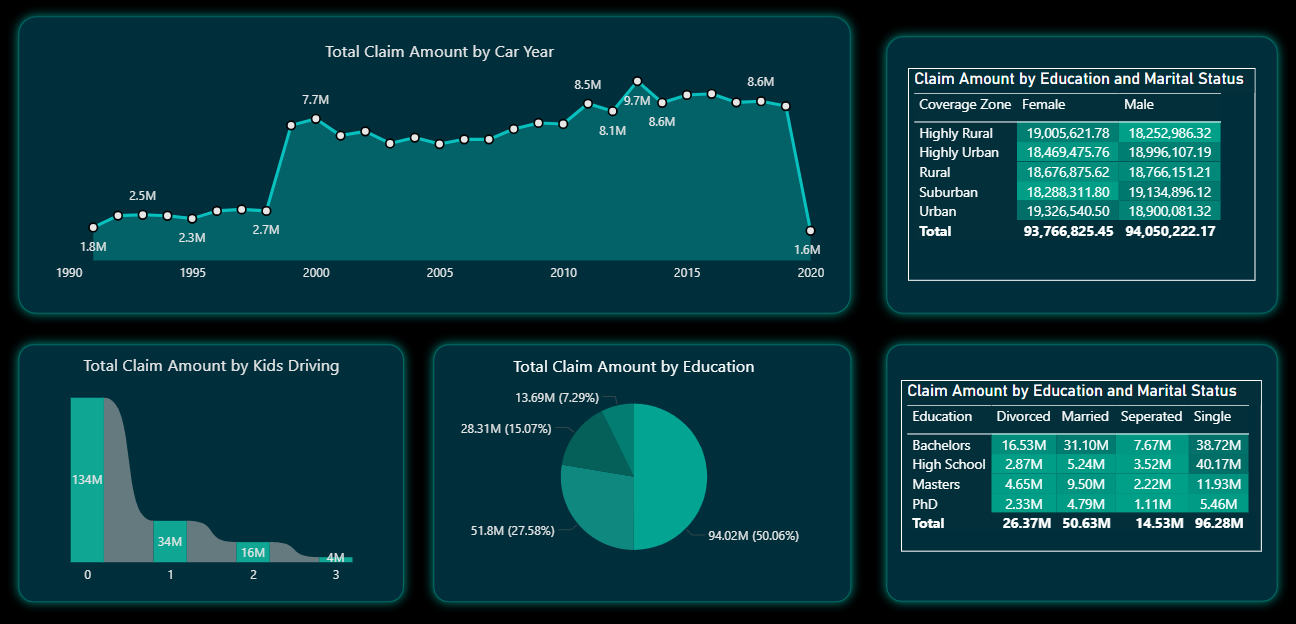

The page's visual inventory and layout, read from the dashboard file:
{"tool":"powerbi","page":{"name":"Dashboard 2","canvas":[1280,720],"ordinal":1},"visuals":[{"type":"shape","box":[27.6,103.5,829.7,309.4],"z":0},{"type":"textbox","box":[336.9,10.6,605.6,64.7],"z":1000},{"type":"shape","box":[27.6,421.7,395.1,271],"z":2000},{"type":"shape","box":[430.6,421.7,426.7,271],"z":3000},{"type":"pieChart","fields":{"Y":["Car_Insurance_Data.Total Claim Amount"],"Category":["Car_Insurance_Data.Education"]},"box":[447.4,442.4,377.4,215.8],"z":4000},{"type":"shape","box":[871.5,422.1,400.7,270.4],"z":5000},{"type":"pivotTable","title":"Claim Amount by Education and Marital Status","fields":{"Rows":["Car_Insurance_Data.Education"],"Columns":["Car_Insurance_Data.Marital Status"],"Values":["Car_Insurance_Data.Total Claim Amount"]},"box":[895.8,466.9,351.1,167.3],"z":6000},{"type":"slicer","fields":{"Values":["Select Measure.Select Measure"]},"box":[1009.6,0,270.4,88.5],"z":7000},{"type":"ribbonChart","fields":{"Y":["Car_Insurance_Data.Total Claim Amount"],"Category":["Car_Insurance_Data.Kids Driving"]},"box":[67,441.4,316.3,232.5],"z":8000},{"type":"areaChart","fields":{"Y":["Car_Insurance_Data.Total Claim Amount"],"Category":["Car_Insurance_Data.Car Year"]},"box":[68,136,757.8,244.4],"z":9000},{"type":"shape","box":[871.5,122.6,400.7,289.8],"z":9002},{"type":"pivotTable","title":"Claim Amount by Education and Marital Status","fields":{"Rows":["Car_Insurance_Data.Coverage Zone"],"Columns":["Car_Insurance_Data.Gender"],"Values":["Car_Insurance_Data.Total Claim Amount"]},"box":[902.6,163.4,337.5,207.2],"z":9003}]}

Visuals, with their boxes on the page's 1280x720 design canvas (x1, y1, x2, y2). These are canvas units, not pixel positions in the 1296x624 screenshot, which may show the page scaled, cropped or inside an application window:
shape: left=28, top=104, right=857, bottom=413
textbox: left=337, top=11, right=942, bottom=75
shape: left=28, top=422, right=423, bottom=693
shape: left=431, top=422, right=857, bottom=693
pieChart - Car_Insurance_Data.Total Claim Amount x Car_Insurance_Data.Education: left=447, top=442, right=825, bottom=658
shape: left=872, top=422, right=1272, bottom=692
"Claim Amount by Education and Marital Status" pivotTable: left=896, top=467, right=1247, bottom=634
slicer - Select Measure.Select Measure: left=1010, top=0, right=1280, bottom=88
ribbonChart - Car_Insurance_Data.Total Claim Amount x Car_Insurance_Data.Kids Driving: left=67, top=441, right=383, bottom=674
areaChart - Car_Insurance_Data.Total Claim Amount x Car_Insurance_Data.Car Year: left=68, top=136, right=826, bottom=380
shape: left=872, top=123, right=1272, bottom=412
"Claim Amount by Education and Marital Status" pivotTable: left=903, top=163, right=1240, bottom=371
